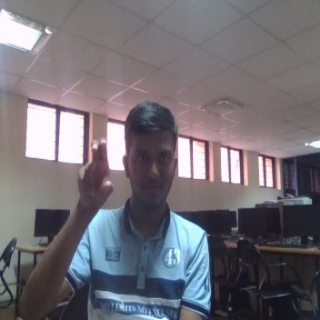No: (76, 135, 115, 211)
